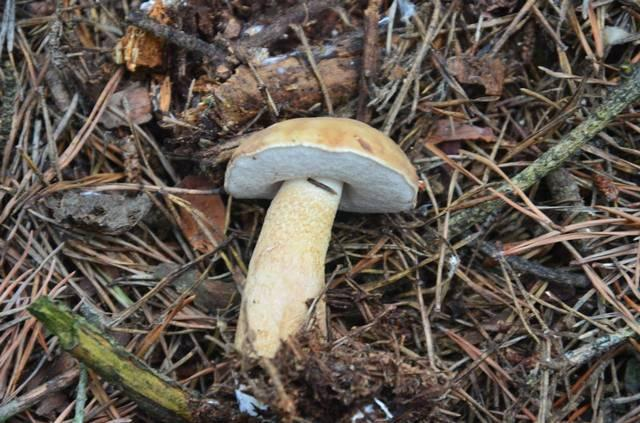Non-edible Mushroom: (221, 114, 420, 364)
